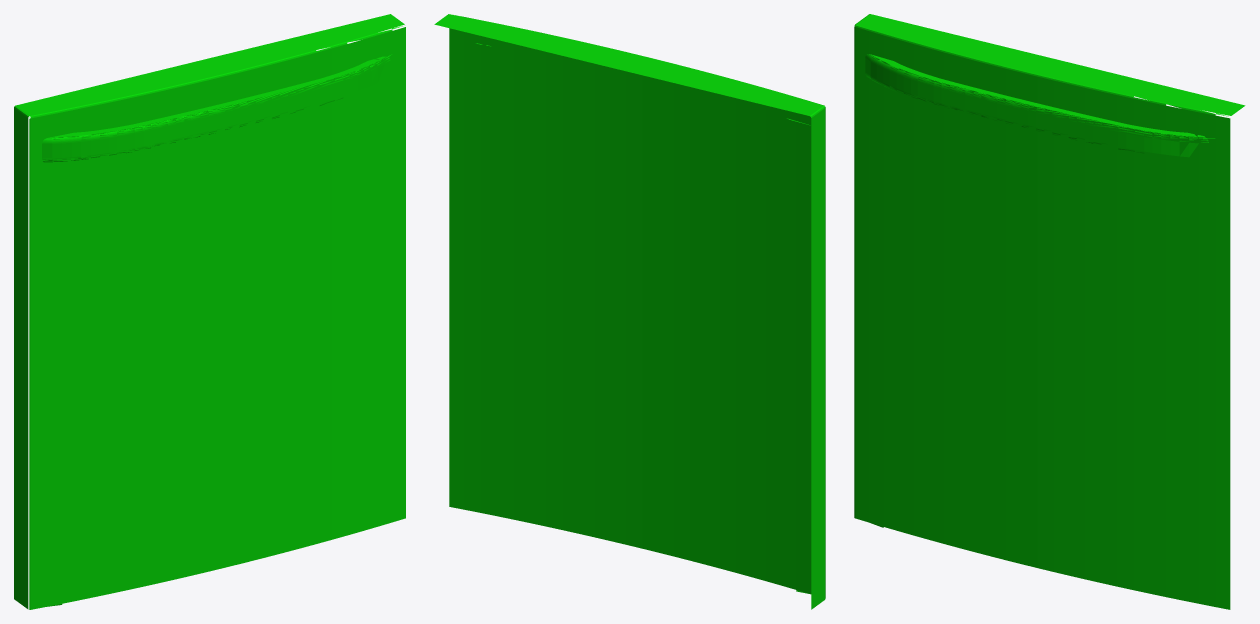
Rendered from pred_area.obj.
The picture shows the model from 3 angles, left to right: view 1: azimuth 30°, elevation 25°; view 2: azimuth 150°, elevation 25°; view 3: azimuth 330°, elevation 25°; orthographic projection.
Bounding box in the file's own units: 1.04 × 1.31 × 0.1401.
